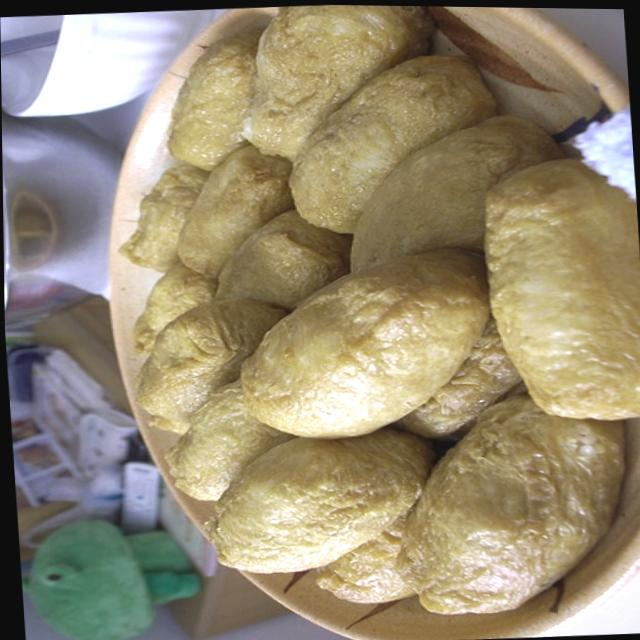寿司卷物: (93, 1, 640, 639)
